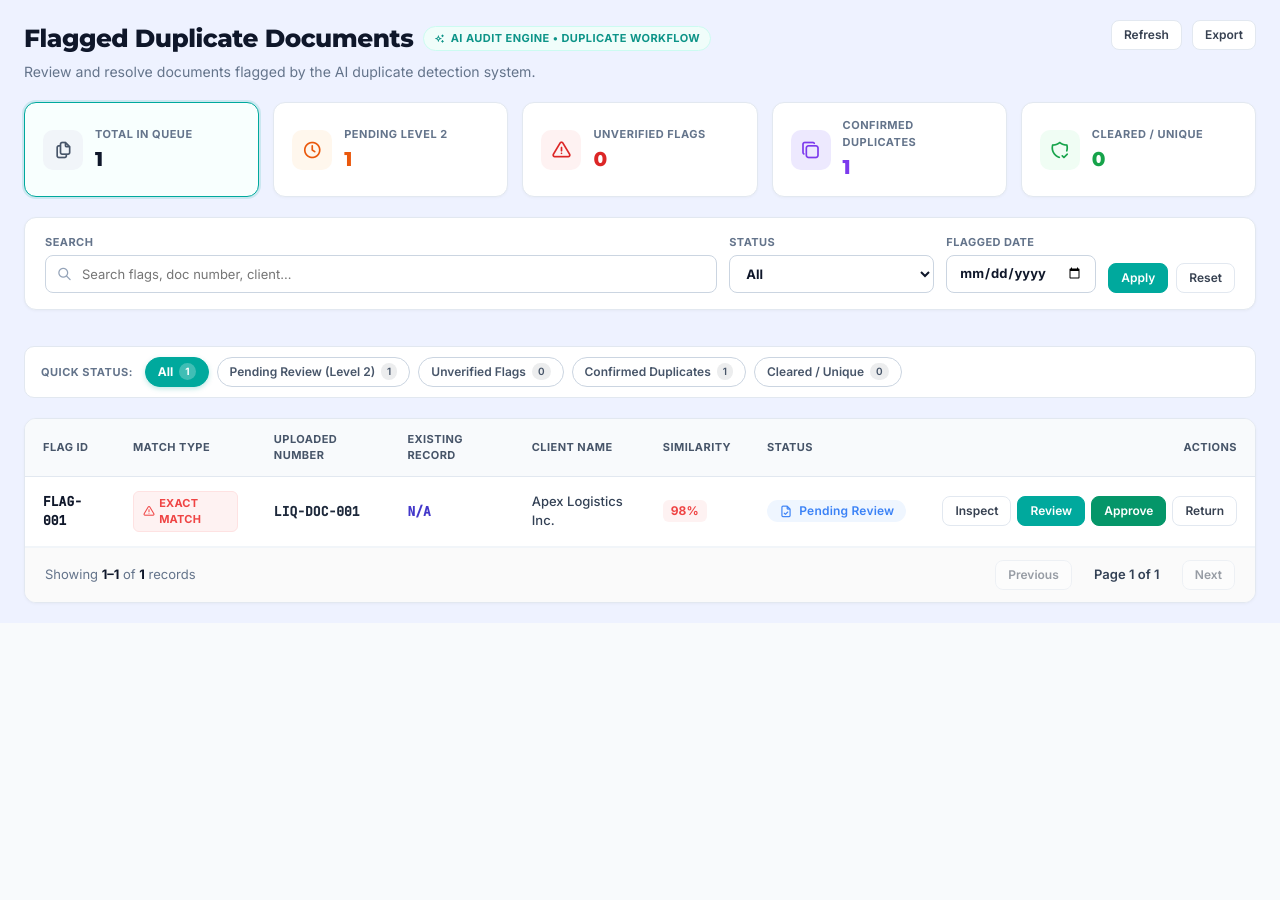
Test case: EMP-001 (Finance Manager) — Complete Page-by-Page Workflow & Verification › Page 16: /flagged-duplicates (Flagged Duplicates) › loads flagged duplicates and supervisor approves decision calling review endpoint
The width and height of the screenshot is (1280, 900).
Later steps or results of the test are not shown.
Expected: the text "FLAG-001" is shown, [43, 493, 82, 529]
Click the button "Approve". click: (1129,511)
box: [1091, 496, 1166, 526]
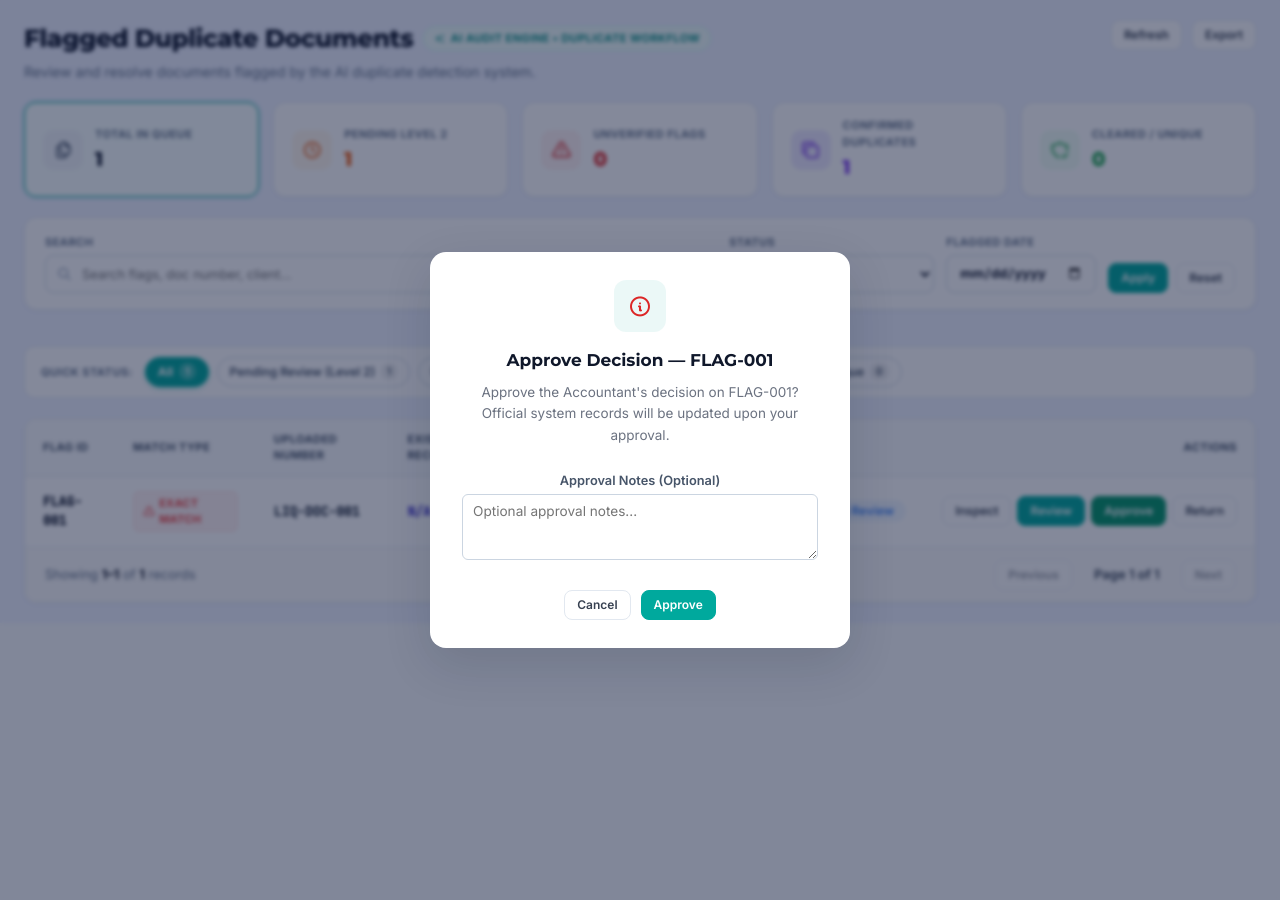
Result: the text box with placeholder "Optional approval notes..." is shown at [462, 494, 818, 560]
